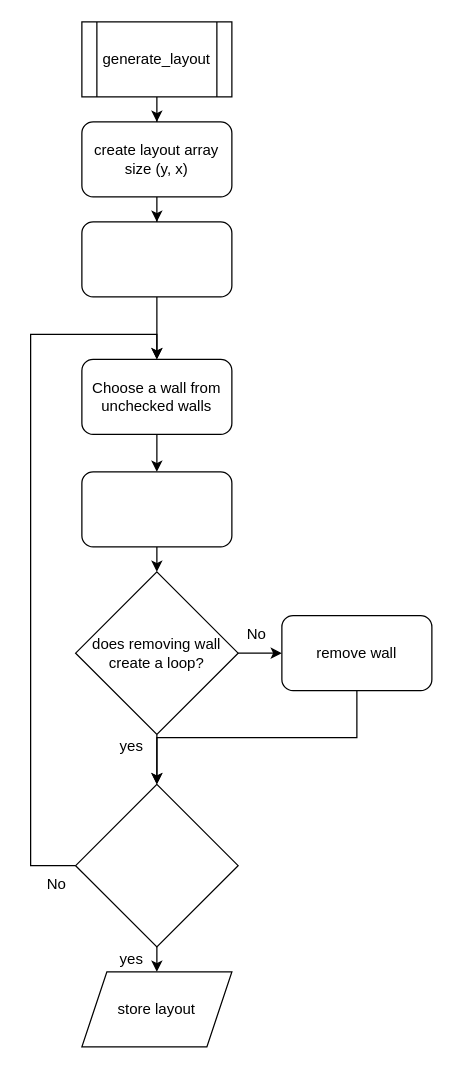
This 454x1069 diagram has some shape labels left out. Each missing label, with the box of its shape:
fill layout array with all walls: (81, 221, 232, 297)
Is unchecked walls empty?: (74, 783, 238, 947)
remove wall from unchecked walls: (81, 471, 232, 547)
